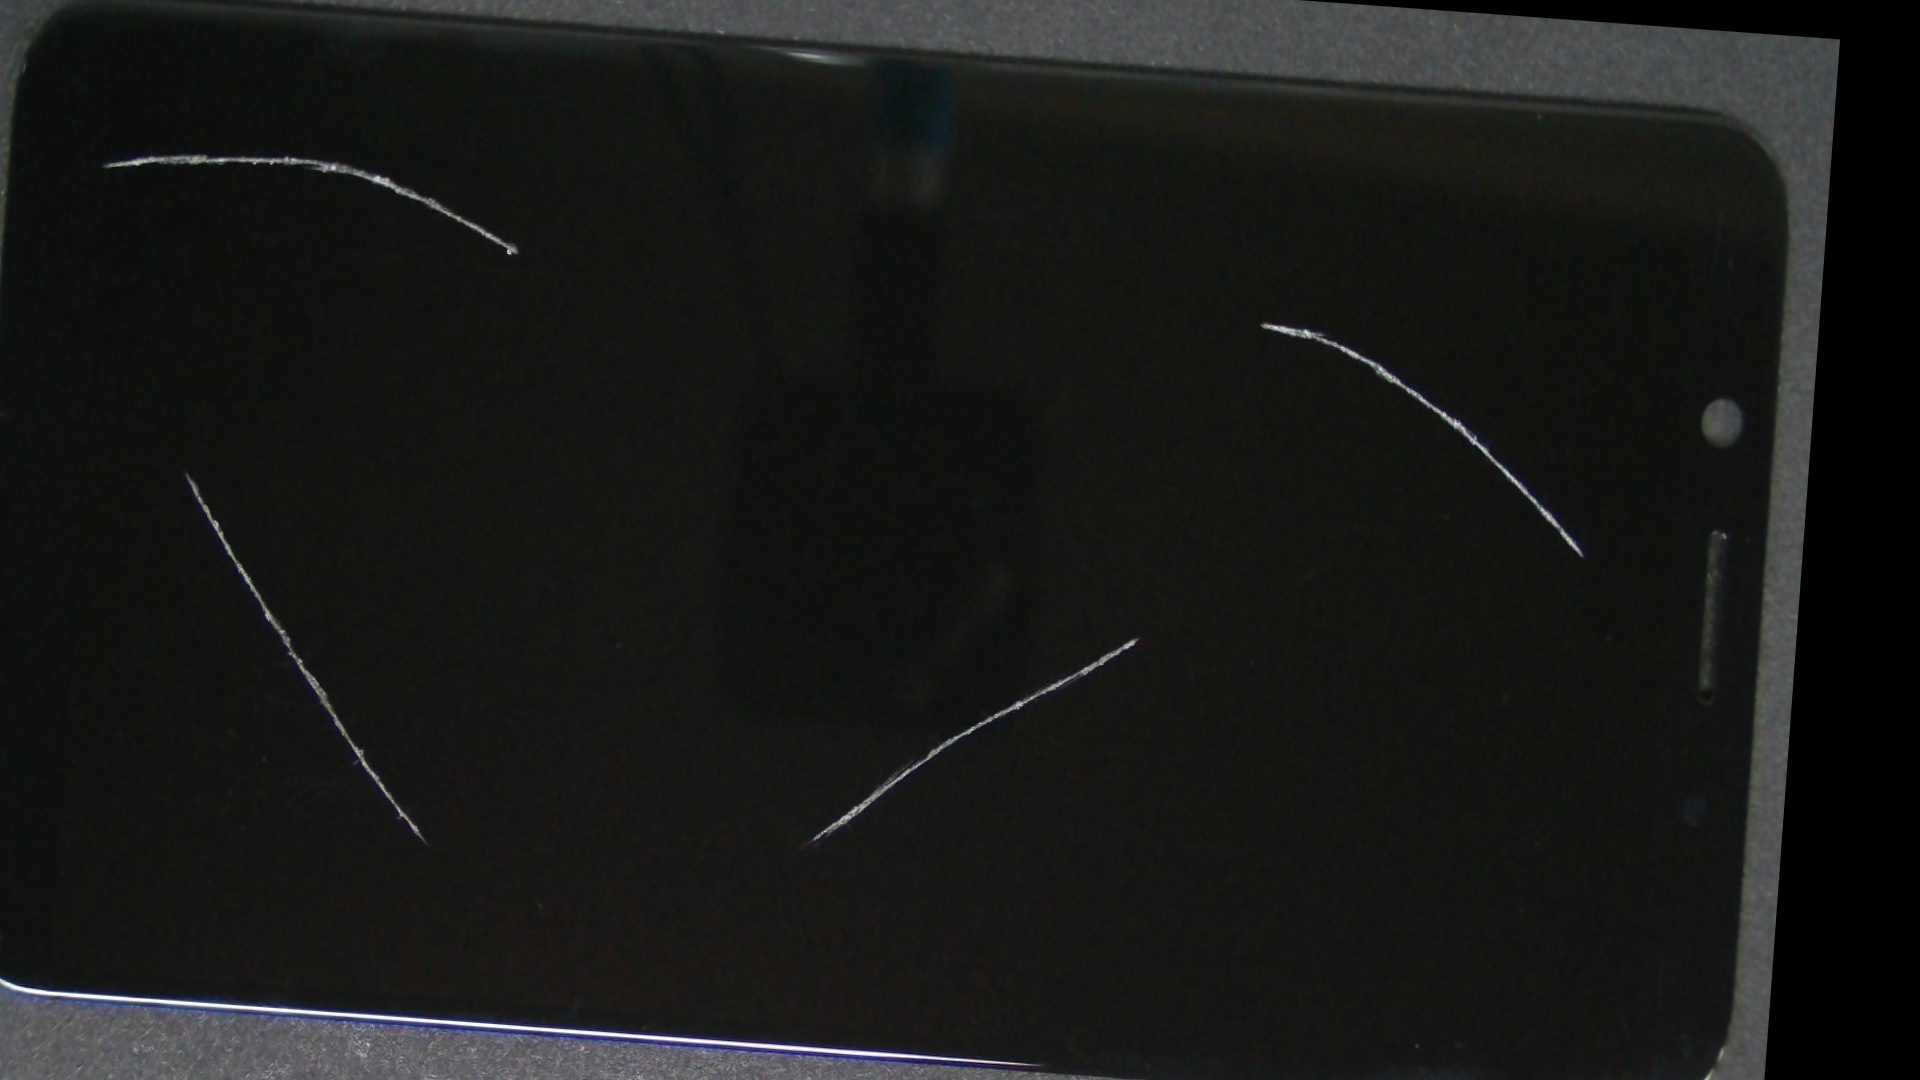oil: (524, 272, 1746, 1005), (612, 113, 1828, 525), (55, 189, 314, 756), (129, 30, 440, 280)
